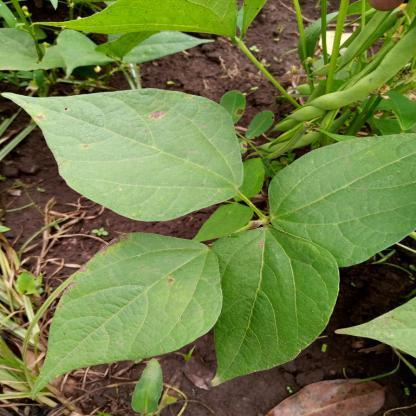Beans_Angular_LeafSpot: (10, 81, 245, 223), (29, 229, 228, 396), (214, 221, 338, 386)
